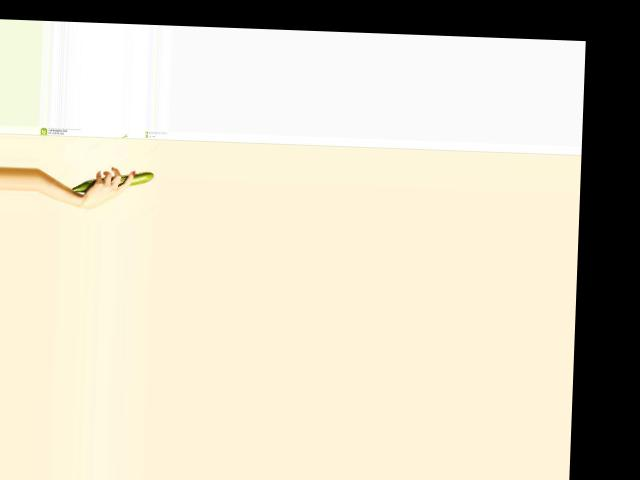cucumber: (71, 168, 153, 194)
